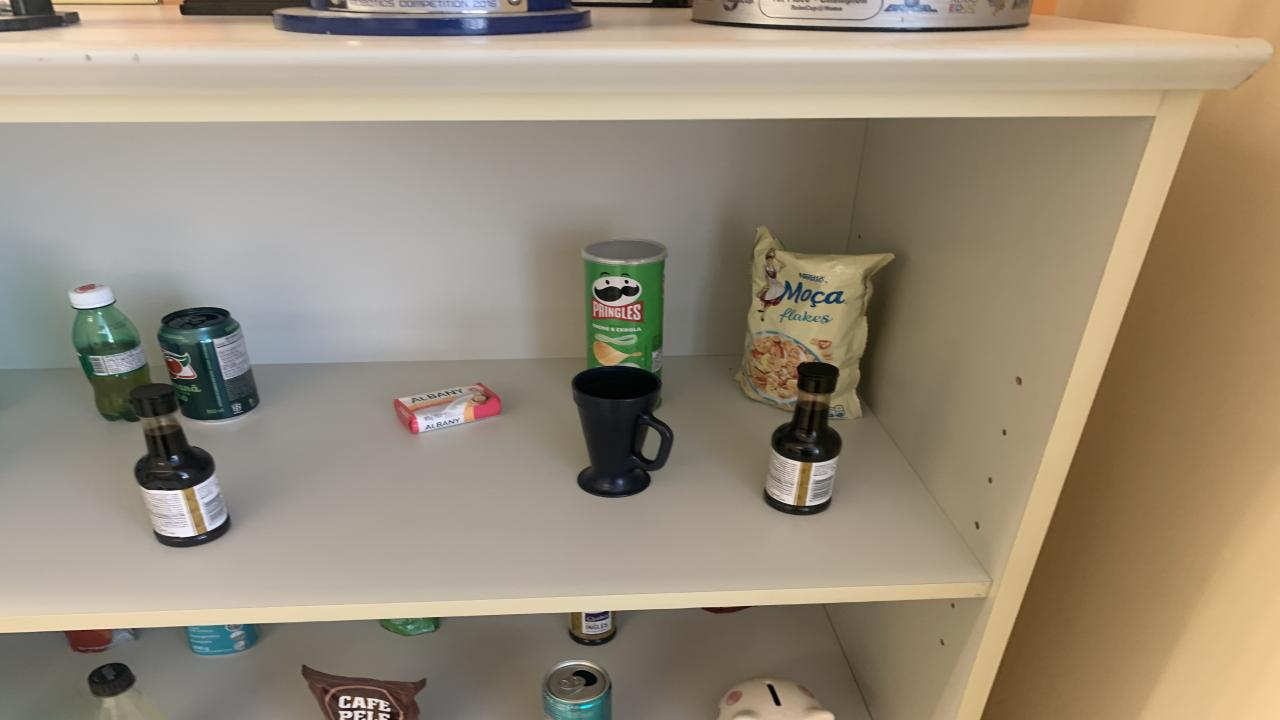Cleaner-Cleanup_Items: (185, 624, 258, 654)
Coffee-Pantry_Items: (302, 666, 428, 720)
English_Sauce-Pantry_Items: (130, 384, 230, 548), (765, 362, 842, 514), (570, 611, 615, 645)
Flakes-Snacks: (735, 227, 892, 418)
Guarana-Drinks: (70, 285, 150, 422)
Guarana_Can-Drinks: (158, 308, 260, 422)
Pig_Safe-Miscellaneous: (718, 677, 835, 720)
Pringles-Snacks: (582, 238, 668, 373)
Soap-Cleanup_Items: (395, 384, 500, 433)
Soda-Drinks: (88, 662, 168, 720)
Tea-Drinks: (542, 660, 612, 720)
Tomato_Sauce-Pantry_Items: (65, 628, 138, 652), (380, 617, 440, 636)
